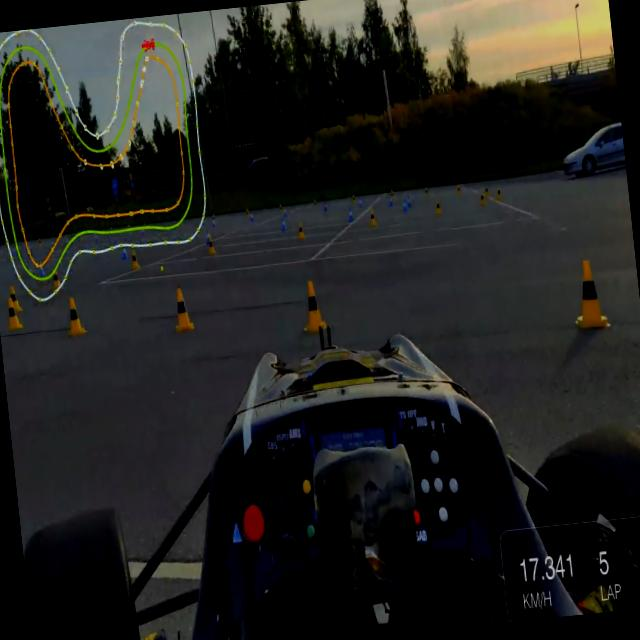blue_cone: (34, 257, 46, 279), (118, 240, 128, 262), (398, 196, 408, 218), (278, 213, 287, 234), (346, 203, 354, 224)
yellow_cone: (568, 245, 610, 334), (296, 273, 330, 332), (170, 282, 196, 334), (64, 294, 88, 338), (4, 296, 22, 332), (6, 282, 20, 314), (50, 264, 61, 294), (128, 244, 140, 271), (204, 231, 215, 256), (295, 217, 306, 240), (366, 205, 377, 226), (494, 184, 504, 206), (432, 197, 442, 218), (482, 183, 491, 204), (476, 188, 484, 208)
